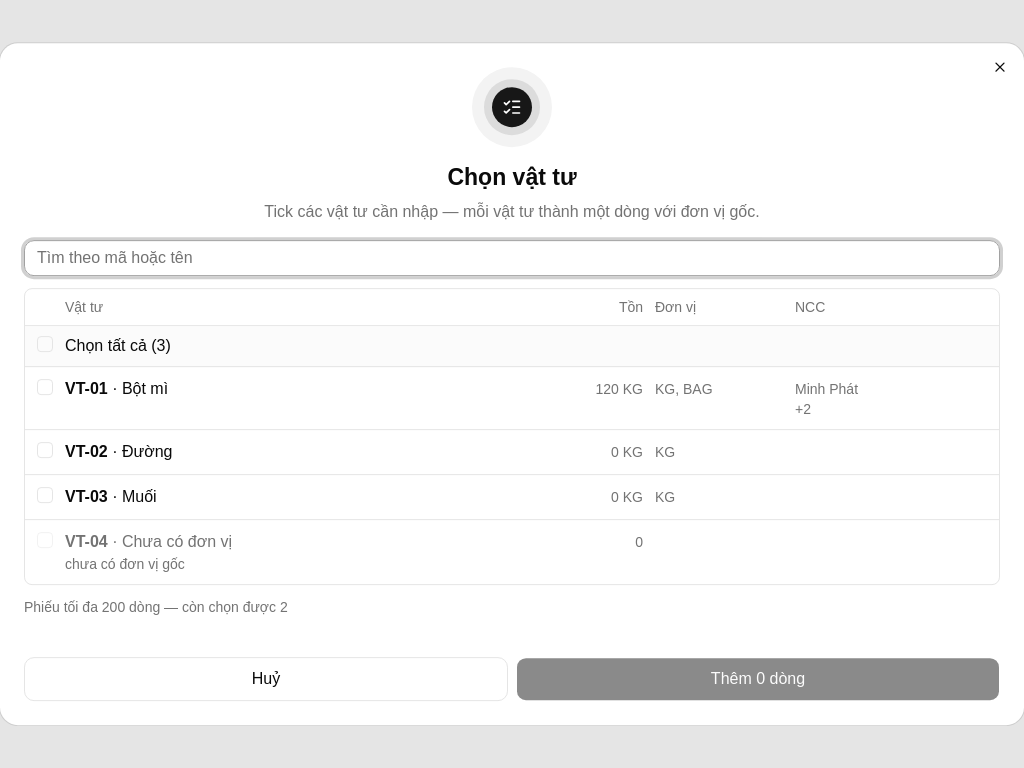
Test: ImportFormMaterialPicker › capacity 2 < số vật tư tick được (3) → câu giới hạn hiện sẵn, đếm lùi khi tick; đủ thì khoá ô chưa tick
Expected: the text "Phiếu tối đa 200 dòng — còn chọn được 2" is shown, top-left (24, 599), bottom-right (288, 615)
What coordinates should you click on to do the following:
click the checkbox named "VT-01 · Bột mì" next to "VT-01"
I would click on:
 (45, 387)
Its box is top-left (37, 379), bottom-right (53, 395).
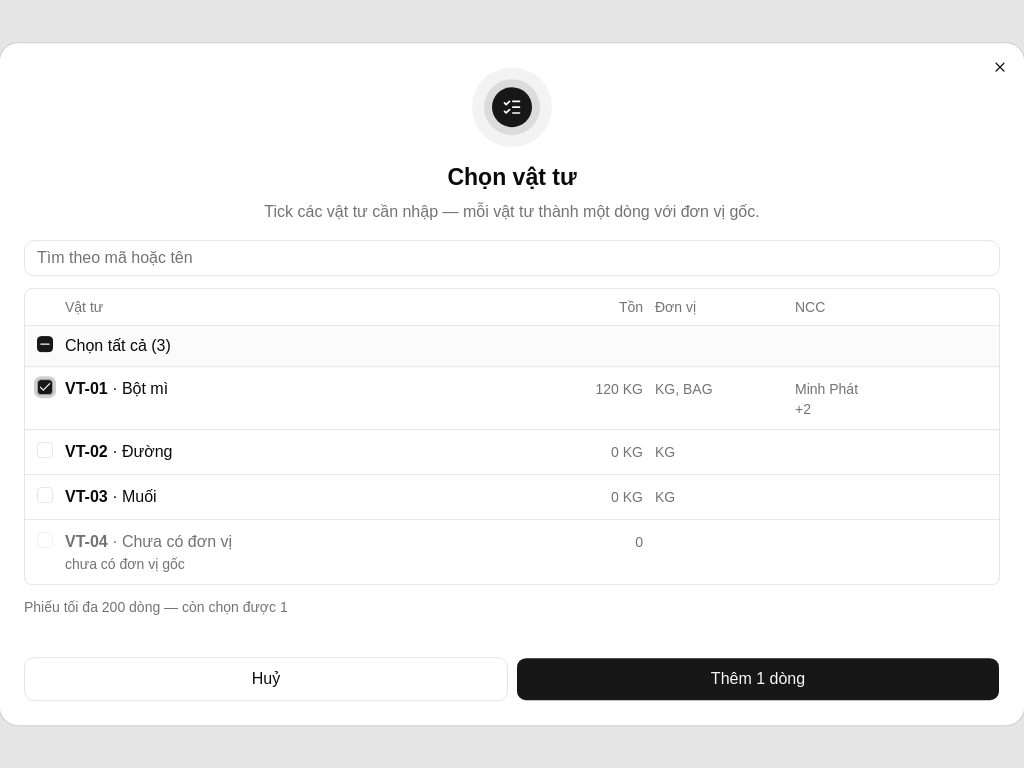
Now the text "Phiếu tối đa 200 dòng — còn chọn được 1" is shown, box top-left (24, 599), bottom-right (288, 615)
What coordinates should you click on to do the following:
click the checkbox named "VT-02 · Đường" next to "VT-02"
I would click on:
 (45, 450)
Its box is top-left (37, 442), bottom-right (53, 458).
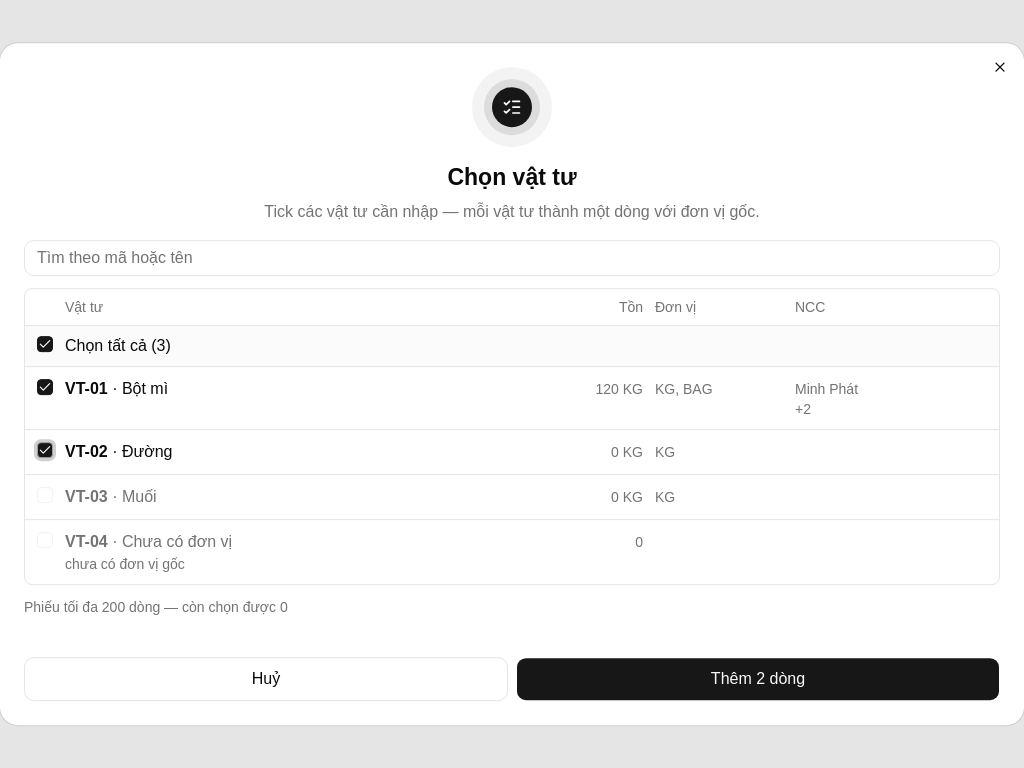
What coordinates should you click on to do the following:
click the checkbox named "VT-01 · Bột mì" next to "VT-01"
I would click on:
 (45, 387)
Its box is top-left (37, 379), bottom-right (53, 395).
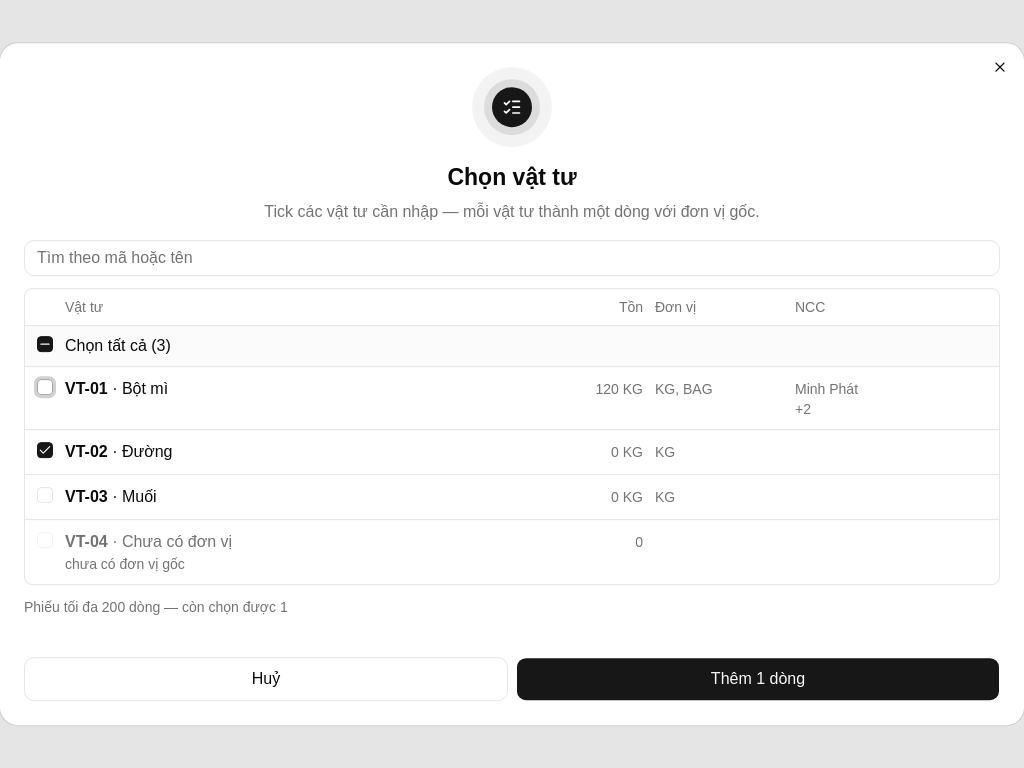
Expected: the checkbox named "VT-03 · Muối" next to "VT-03" is enabled, top-left (37, 487), bottom-right (53, 503)
Now the text "Phiếu tối đa 200 dòng — còn chọn được 1" is shown, box top-left (24, 599), bottom-right (288, 615)
